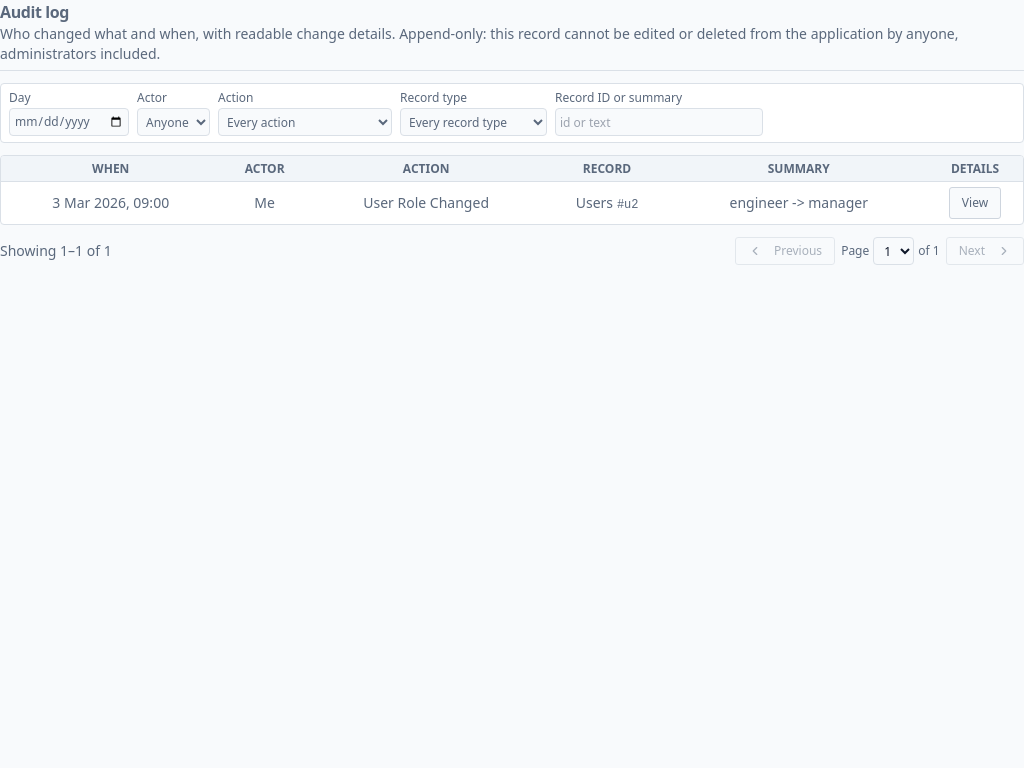
Test: the audit log › shows a readable field change on request
Click the button with aria-label "show change details": (975, 203) [949,187,1001,219]
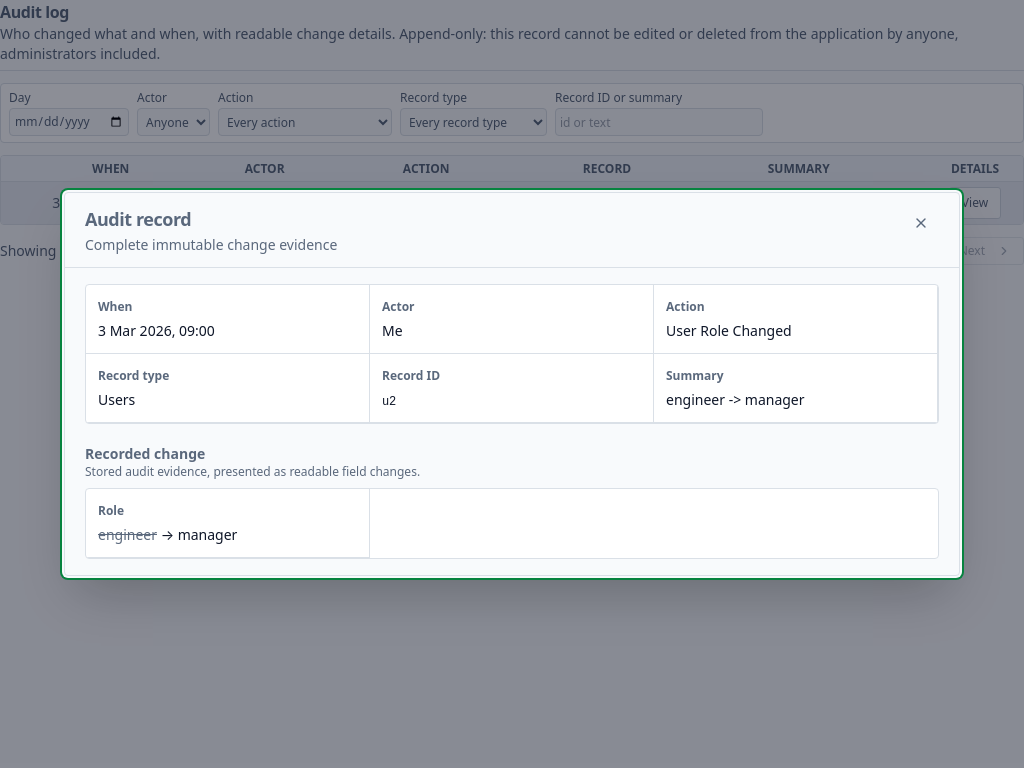
Check: the heading "Recorded change" is shown, box [85,444,205,463]
Check: the text "engineer" is shown, box [98,525,157,544]
Check: the text "manager" is shown, box [178,525,237,544]
